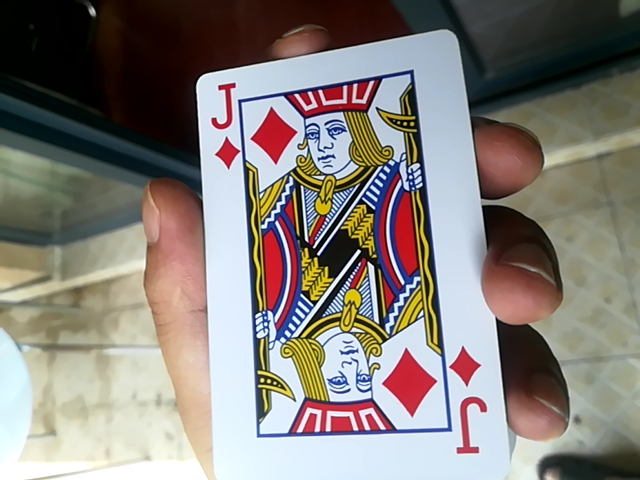fk j: (186, 36, 499, 475)
